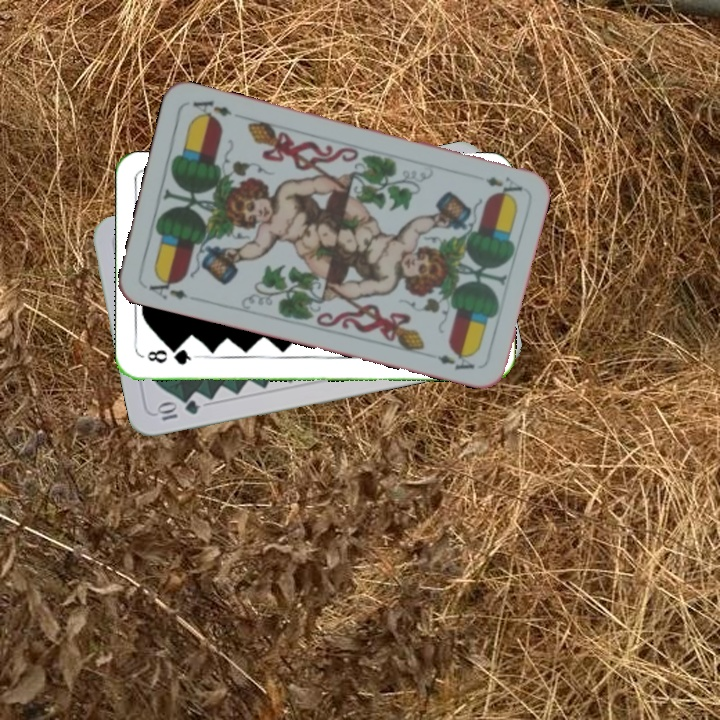EA: (145, 272, 191, 302), (481, 172, 526, 197)
G10: (152, 396, 202, 423)
G8: (143, 345, 193, 368)
